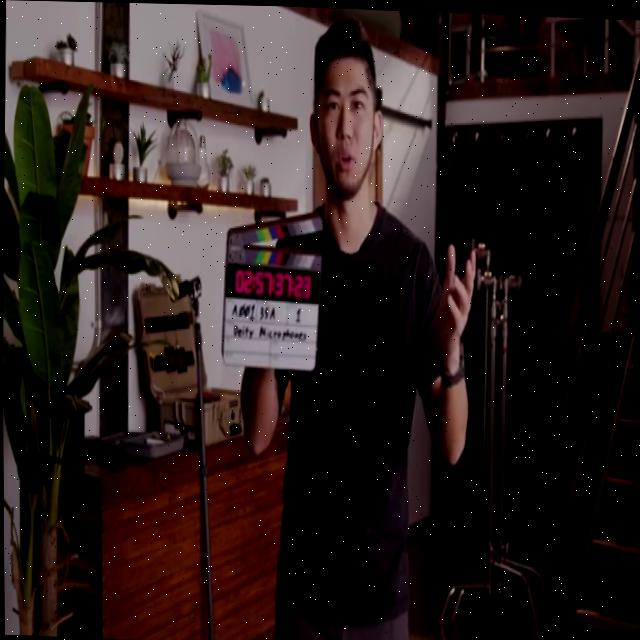Clapperboard: (217, 202, 320, 374)
